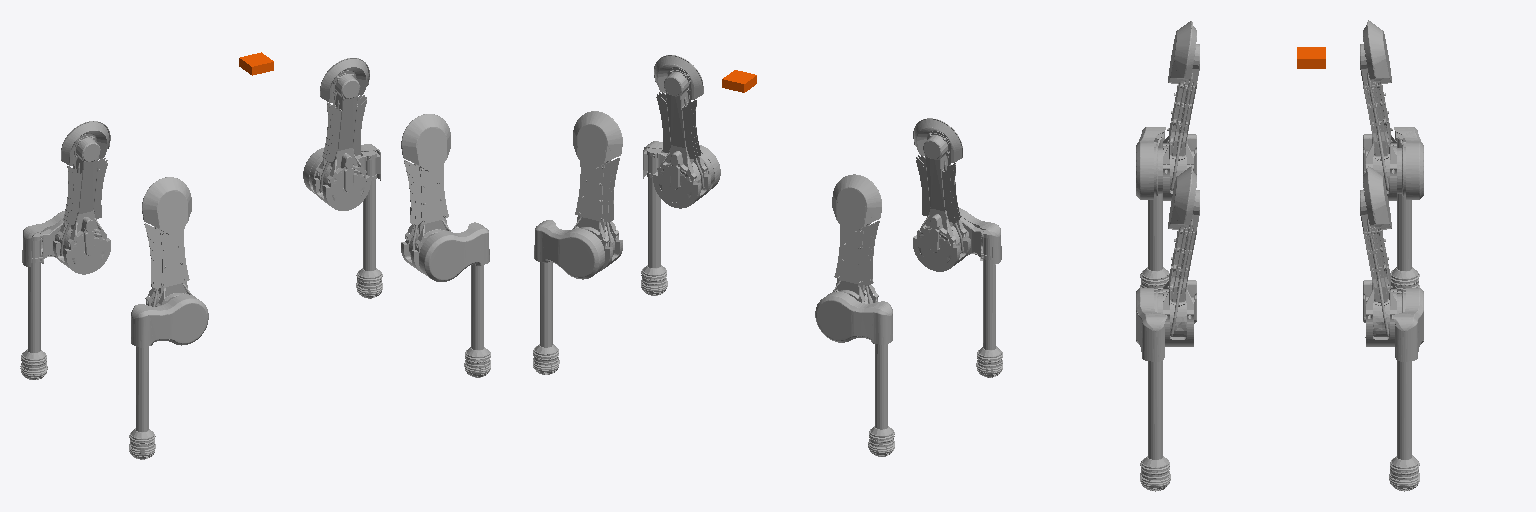
--- Render facts (derived) ---
3 views of the same robot in one strip: view 1: azimuth 30°, elevation 25°; view 2: azimuth 150°, elevation 25°; view 3: azimuth 270°, elevation 25° (orthographic).
Model anymal with 24 links and 23 joints (12 revolute, 10 fixed, 1 floating), rooted at world, posed all joints at 0.
Visible links, largest first — view 1: LH_THIGH, LF_THIGH, RF_THIGH, RH_THIGH, RH_SHANK, RF_SHANK, LH_ADAPTER, LF_ADAPTER, RH_ADAPTER, RF_ADAPTER, LH_SHANK, LF_SHANK (+1 smaller); view 2: RH_THIGH, RF_THIGH, LF_THIGH, LH_THIGH, LH_SHANK, LF_SHANK, RH_ADAPTER, RF_ADAPTER, LF_ADAPTER, LH_ADAPTER, RH_SHANK, RF_SHANK (+1 smaller); view 3: LF_THIGH, RF_THIGH, RH_THIGH, LH_THIGH, LF_ADAPTER, RF_ADAPTER, LF_SHANK, RF_SHANK, RH_ADAPTER, LH_ADAPTER, LH_SHANK, RH_SHANK (+1 smaller).
Link boxes in pixels (<box>): LH_THIGH: <box>53,121,110,274</box>; LF_THIGH: <box>312,58,370,210</box>; RF_THIGH: <box>401,114,450,273</box>; RH_THIGH: <box>142,177,191,306</box>; RH_SHANK: <box>131,294,208,347</box>; RF_SHANK: <box>419,222,489,281</box>; LH_ADAPTER: <box>20,233,47,379</box>; LF_ADAPTER: <box>356,151,382,298</box>; RH_ADAPTER: <box>129,347,155,459</box>; RF_ADAPTER: <box>464,264,490,377</box>; LH_SHANK: <box>22,211,64,266</box>; LF_SHANK: <box>303,144,380,193</box>; RH_THIGH: <box>913,118,970,271</box>; RF_THIGH: <box>653,55,710,208</box>; LF_THIGH: <box>573,111,622,271</box>; LH_THIGH: <box>832,174,881,303</box>; LH_SHANK: <box>815,292,892,344</box>; LF_SHANK: <box>534,220,604,279</box>; RH_ADAPTER: <box>976,230,1002,377</box>; RF_ADAPTER: <box>641,148,667,295</box>; LF_ADAPTER: <box>533,262,559,374</box>; LH_ADAPTER: <box>868,344,894,456</box>; RH_SHANK: <box>959,208,1001,264</box>; RF_SHANK: <box>643,141,720,191</box>; LF_THIGH: <box>1360,166,1401,346</box>; RF_THIGH: <box>1158,166,1199,346</box>; RH_THIGH: <box>1158,21,1199,200</box>; LH_THIGH: <box>1360,20,1401,200</box>; LF_ADAPTER: <box>1389,361,1419,491</box>; RF_ADAPTER: <box>1140,361,1170,491</box>; LF_SHANK: <box>1394,288,1423,361</box>; RF_SHANK: <box>1136,288,1165,361</box>; RH_ADAPTER: <box>1140,133,1169,293</box>; LH_ADAPTER: <box>1390,133,1419,293</box>; LH_SHANK: <box>1394,127,1423,199</box>; RH_SHANK: <box>1136,127,1165,199</box>.
Bounding box of the posed robot: 0.9429 × 0.568 × 0.763 m (x, y, z).
12 mesh visuals loaded from 7 distinct referenced files (4 Collada DAE); not drawn: 1 (reference not matched to a file when rendering), 4 (file found but could not be loaded).

The robot description file, URDF, robot "anymal":
<?xml version="1.0" ?>
<!-- =================================================================================== -->
<!-- |    This URDF was edited to fix inertias.                                        | -->
<!-- =================================================================================== -->
<!-- This file contains the description of the ANYmal B robot. -->
<robot name="anymal" 
  xmlns:xacro="http://www.ros.org/wiki/xacro">
  <material name="black">
    <color rgba="0.0 0.0 0.0 1.0"/>
  </material>
  <material name="blue">
    <color rgba="0.0 0.0 0.8 1.0"/>
  </material>
  <material name="green">
    <color rgba="0.0 0.8 0.0 1.0"/>
  </material>
  <material name="grey">
    <color rgba="0.2 0.2 0.2 1.0"/>
  </material>
  <material name="light_grey">
    <color rgba="0.4 0.4 0.4 1.0"/>
  </material>
  <material name="orange">
    <color rgba="1.0 0.423529411765 0.0392156862745 1.0"/>
  </material>
  <material name="brown">
    <color rgba="0.870588235294 0.811764705882 0.764705882353 1.0"/>
  </material>
  <material name="red">
    <color rgba="0.8 0.0 0.0 1.0"/>
  </material>
  <material name="white">
    <color rgba="1.0 1.0 1.0 1.0"/>
  </material>
  <!-- Material for the visual primitives -->
  <material name="anymal_material">
    <color rgba="0.7 0.7 0.7 1."/>
  </material>
  <!-- Xacro:Properties -->
  <!-- [m] -->

  <!-- World -->  
  <link name="world"/>

  <!-- Floating base -->  
  <joint name="floating" type="floating">
    <origin rpy="0 0 0" xyz="0 0 0"/>      
    <parent link="world"/>
    <child link="base"/>
  </joint>
  <!-- Base link -->
  <link name="base">
    <visual>
      <origin rpy="0 0 0" xyz="0 0 0"/>
      <geometry>
        <mesh filename="package://anymal_b_simple_description/meshes/base/anymal_base.dae" scale="1 1 1"/>
      </geometry>
      <material name="anymal_material"/>
    </visual>
    <collision>
      <!-- Main Body -->
      <origin rpy="0 0 0" xyz="0 0 0.08"/>
      <geometry>
        <box size="0.531 0.27 0.24"/>
      </geometry>
    </collision>
    <collision>
      <!-- HAA actuators -->
      <origin rpy="0 1.57079632679 0" xyz="0.227 0.116 0"/>
      <geometry>
        <cylinder length="0.1" radius="0.05"/>
      </geometry>
    </collision>
    <collision>
      <origin rpy="0 1.57079632679 0" xyz="0.227 -0.116 0"/>
      <geometry>
        <cylinder length="0.1" radius="0.05"/>
      </geometry>
    </collision>
    <collision>
      <origin rpy="0 1.57079632679 0" xyz="-0.227 0.116 0"/>
      <geometry>
        <cylinder length="0.1" radius="0.05"/>
      </geometry>
    </collision>
    <collision>
      <origin rpy="0 1.57079632679 0" xyz="-0.227 -0.116 0"/>
      <geometry>
        <cylinder length="0.1" radius="0.05"/>
      </geometry>
    </collision>
    <collision>
      <!-- Belly plate front bump -->
      <origin rpy="0 0 0" xyz="0.2155 0.0 -0.09"/>
      <geometry>
        <box size="0.1 0.1 0.07"/>
      </geometry>
    </collision>
    <collision>
      <!-- Belly plate hind bump-->
      <origin rpy="0 0 0" xyz="-0.2155 0.0 -0.09"/>
      <geometry>
        <box size="0.1 0.1 0.07"/>
      </geometry>
    </collision>
    <collision>
      <!-- Belly plate middle bump-->
      <origin rpy="0 0 0" xyz="0 0 -0.09"/>
      <geometry>
        <box size="0.531 0.02 0.07"/>
      </geometry>
    </collision>
    <inertial>
      <mass value="1e-6"/>
      <inertia ixx="1e-6" ixy="1e-6" ixz="1e-6" iyy="1e-6" iyz="1e-6" izz="1e-6"/>
    </inertial>
  </link>
  <!-- Fixed joint to add dummy inertia link -->
  <joint name="base_to_base_inertia" type="fixed">
    <parent link="base"/>
    <child link="base_inertia"/>
    <origin rpy="0 0 0" xyz="0 0 0"/>
  </joint>
  <!-- Dummy inertia link, because KDL cannot have inertia on the base link -->
  <link name="base_inertia">
    <inertial>
      <origin rpy="0 0 0" xyz="-0.001960558279 -0.001413217745 0.050207125344"/>
      <mass value="16.793507758"/>
      <inertia ixx="0.217391101503" ixy="-0.00132873239126" ixz="-0.00228200226173" iyy="0.639432546734" iyz="-0.00138078263145" izz="0.62414077654"/>
    </inertial>
  </link>
  <!-- Xacro:Properties -->
  <!-- [kg * m^2] -->
  <!-- [A] -->
  <link name="LF_HIP">
    <visual>
      <origin rpy="0 0 0.0" xyz="0 0 0"/>
      <geometry>
        <mesh filename="package://anymal_b_simple_description/meshes/hip/anymal_hip_l.dae" scale="1 1 1"/>
      </geometry>
      <material name="anymal_material"/>
    </visual>
    <collision>
      <!-- Protector -->
      <origin rpy="1.57079632679 0 0" xyz="0.0635 -0.009 0.0"/>
      <geometry>
        <cylinder length="0.1" radius="0.08"/>
      </geometry>
    </collision>
    <collision>
      <!-- Heatfins -->
      <origin rpy="1.57079632679 0 0" xyz="0.0635 -0.074 0.0"/>
      <geometry>
        <cylinder length="0.03" radius="0.045"/>
      </geometry>
    </collision>
    <inertial>
      <origin rpy="0 0 0" xyz="0.064516258147 -0.003787101702 -0.000152184388"/>
      <mass value="1.42462064"/>
      <inertia ixx="0.00243023349564" ixy="-1.53023971e-05" ixz="-2.1819095354e-05" iyy="0.00230257239103" iyz="2.6473021273e-05" izz="0.0019806759227"/>
    </inertial>
  </link>
  <!-- Hip joint -->
  <joint name="LF_HAA" type="revolute">
    <parent link="base"/>
    <child link="LF_HIP"/>
    <origin xyz="0.277 0.116 0.0"/>
    <axis xyz="1 0 0"/>
    <limit command_effort="40" current="10" effort="80" gear_velocity="10" lower="-9.42" upper="9.42" velocity="15"/>
    <dynamics damping="0.0" friction="0.0"/>
  </joint>
  <!-- Xacro:Properties -->
  <!-- [m] -->
  <!-- [A] -->
  <link name="LF_THIGH">
    <visual>
      <origin rpy="0 0 0" xyz="0 0 0"/>
      <geometry>
        <mesh filename="package://anymal_b_simple_description/meshes/thigh/anymal_thigh.dae" scale="1 1 1"/>
      </geometry>
      <material name="anymal_material"/>
    </visual>
    <collision>
      <!-- thigh with heat fins -->
      <origin rpy="0.145 0 0" xyz="0 0.035 -0.125"/>
      <geometry>
        <box size="0.08 0.04 0.25"/>
      </geometry>
    </collision>
    <collision>
      <!-- KFE actuator -->
      <origin rpy="1.57079632679 0 0" xyz="0.0 0.069 -0.25"/>
      <geometry>
        <cylinder length="0.12" radius="0.06"/>
      </geometry>
    </collision>
    <collision>
      <!-- upper protector -->
      <origin rpy="1.71579632679 0 0" xyz="0 -0.005 0"/>
      <geometry>
        <cylinder length="0.12" radius="0.066"/>
      </geometry>
    </collision>
    <inertial>
      <origin rpy="0 0 0" xyz="-0.003897968082 0.054226618537 -0.214583373795"/>
      <mass value="1.634976467"/>
      <inertia ixx="0.0120367944369" ixy="6.762065206e-05" ixz="0.000287806340448" iyy="0.0120643637939" iyz="-0.00140610131218" izz="0.00249422574881"/>
    </inertial>
  </link>
  <!-- Thigh joint -->
  <joint name="LF_HFE" type="revolute">
    <parent link="LF_HIP"/>
    <child link="LF_THIGH"/>
    <origin xyz="0.0635                    0.041                    0.0"/>
    <axis xyz="0 1 0"/>
    <limit command_effort="40" current="10" effort="80" gear_velocity="10" lower="-9.42" upper="9.42" velocity="15.0"/>
    <dynamics damping="0.0" friction="0.0"/>
  </joint>
  <!-- Xacro:Properties -->
  <!-- [m] -->
  <!-- [A] -->
  <link name="LF_SHANK">
    <visual>
      <origin rpy="0 0 0.0" xyz="0 0 0"/>
      <geometry>
        <mesh filename="package://anymal_b_simple_description/meshes/shank/anymal_shank_l.dae" scale="1 1 1"/>
      </geometry>
      <material name="anymal_material"/>
    </visual>
    <collision>
      <origin rpy="0 1.57079632679 0" xyz="0.065 -0.015 0.01"/>
      <geometry>
        <box size="0.08 0.07 0.13"/>
      </geometry>
    </collision>
    <inertial>
      <origin rpy="0 0 0" xyz="0.030816858139 -0.004617229294 0.000893125713"/>
      <mass value="0.207204302"/>
      <inertia ixx="0.0002104880248" ixy="-5.6750980345e-05" ixz="1.0127699391e-05" iyy="0.000676270210023" iyz="-8.22869024e-07" izz="0.000545032674924"/>
    </inertial>
  </link>
  <!-- Shank joint -->
  <joint name="LF_KFE" type="revolute">
    <parent link="LF_THIGH"/>
    <child link="LF_SHANK"/>
    <origin xyz="0.0 0.109 -0.25"/>
    <axis xyz="0 1 0"/>
    <limit command_effort="40" current="10" effort="80" gear_velocity="10" lower="-9.42" upper="9.42" velocity="15.0"/>
    <dynamics damping="0.0" friction="0.0"/>
  </joint>
  <!-- Xacro:Properties -->
  <!-- [m] -->
  <!-- Shank to Adapter joint -->
  <joint name="LF_SHANK_TO_ADAPTER" type="fixed">
    <parent link="LF_SHANK"/>
    <child link="LF_ADAPTER"/>
    <origin rpy="0.0 0.0 0.0" xyz="0.1 -0.02 0.0"/>
  </joint>
  <!-- Adapter link -->
  <link name="LF_ADAPTER">
    <visual>
      <origin rpy="0 0 0" xyz="0 0 0.032"/>
      <geometry>
        <mesh filename="package://anymal_b_simple_description/meshes/foot/anymal_foot.dae" scale="1 1 1"/>
      </geometry>
      <material name="anymal_material"/>
    </visual>
    <collision>
      <origin rpy="0 0 0" xyz="0 0 -0.160625"/>
      <geometry>
        <cylinder length="0.32125" radius="0.015"/>
      </geometry>
      <material name="anymal_material"/>
    </collision>
    <inertial>
      <origin rpy="0 0 0" xyz="-8.66e-10 -1.472e-09 -0.244345749188"/>
      <mass value="0.140170767"/>
      <inertia ixx="0.00159938741862" ixy="-9.32e-13" ixz="1.039e-11" iyy="0.00159938741932" iyz="1.7563e-11" izz="5.4423177329e-05"/>
    </inertial>
  </link>
  <!-- Adapter to Foot joint -->
  <joint name="LF_ADAPTER_TO_FOOT" type="fixed">
    <parent link="LF_ADAPTER"/>
    <child link="LF_FOOT"/>
    <origin rpy="0.0 0.0 0.0" xyz="0.0 0.0 -0.32125"/>
  </joint>
  <!-- Foot link -->
  <link name="LF_FOOT">
    <collision>
      <origin xyz="0 0 0.02325"/>
      <geometry>
        <sphere radius="0.031"/>
      </geometry>
    </collision>
    <inertial>
      <mass value="0.001"/>
      <inertia ixx="4.90e-07" ixy="0.0" ixz="0.0" iyy="4.90e-07" iyz="0.0" izz="4.90e-07"/>
      <!-- for a sphere: 2/5 m * r**2 -->
    </inertial>
    <!-- Bullet specific parameters -->
    <contact>
      <lateral_friction value="1.0"/>
      <stiffness value="300000"/>
      <damping value="15000"/>
      <!--<restitution value="0.5"/>-->
    </contact>
  </link>
  <!-- Gazebo customization -->
  <gazebo reference="LF_FOOT">
    <kp>1000000.0</kp>
    <kd>100.0</kd>
    <mu1>0.8</mu1>
    <mu2>0.8</mu2>
  </gazebo>
  <!-- Xacro:Properties -->
  <!-- [kg * m^2] -->
  <!-- [A] -->
  <link name="RF_HIP">
    <visual>
      <origin rpy="0 0 0" xyz="0 0 0"/>
      <geometry>
        <mesh filename="package://anymal_b_simple_description/meshes/hip/anymal_hip_r.dae" scale="1 1 1"/>
      </geometry>
      <material name="anymal_material"/>
    </visual>
    <collision>
      <!-- Protector -->
      <origin rpy="1.57079632679 0 0" xyz="0.0635 0.009 0.0"/>
      <geometry>
        <cylinder length="0.1" radius="0.08"/>
      </geometry>
    </collision>
    <collision>
      <!-- Heatfins -->
      <origin rpy="1.57079632679 0 0" xyz="0.0635 0.074 0.0"/>
      <geometry>
        <cylinder length="0.03" radius="0.045"/>
      </geometry>
    </collision>
    <inertial>
      <origin rpy="0 0 0" xyz="0.064516258147 0.003787101702 -0.000152184388"/>
      <mass value="1.42462064"/>
      <inertia ixx="0.00243023349564" ixy="1.53023971e-05" ixz="-2.1819095354e-05" iyy="0.00230257239103" iyz="-2.6473021273e-05" izz="0.0019806759227"/>
    </inertial>
  </link>
  <!-- Hip joint -->
  <joint name="RF_HAA" type="revolute">
    <parent link="base"/>
    <child link="RF_HIP"/>
    <origin xyz="0.277 -0.116 0.0"/>
    <axis xyz="1 0 0"/>
    <limit command_effort="40" current="10" effort="80" gear_velocity="10" lower="-9.42" upper="9.42" velocity="15"/>
    <dynamics damping="0.0" friction="0.0"/>
  </joint>
  <!-- Xacro:Properties -->
  <!-- [m] -->
  <!-- [A] -->
  <link name="RF_THIGH">
    <visual>
      <origin rpy="3.1416 3.1416 0.0" xyz="0 0 0"/>
      <geometry>
        <mesh filename="package://anymal_b_simple_description/meshes/thigh/anymal_thigh.dae" scale="1 1 1"/>
      </geometry>
      <material name="anymal_material"/>
    </visual>
    <collision>
      <!-- thigh with heat fins -->
      <origin rpy="-0.145 0 0" xyz="0 -0.035 -0.125"/>
      <geometry>
        <box size="0.08 0.04 0.25"/>
      </geometry>
    </collision>
    <collision>
      <!-- KFE actuator -->
      <origin rpy="1.57079632679 0 0" xyz="0.0 -0.069 -0.25"/>
      <geometry>
        <cylinder length="0.12" radius="0.06"/>
      </geometry>
    </collision>
    <collision>
      <!-- upper protector -->
      <origin rpy="-1.71579632679 0 0" xyz="0 0.005 0"/>
      <geometry>
        <cylinder length="0.12" radius="0.066"/>
      </geometry>
    </collision>
    <inertial>
      <origin rpy="0 0 0" xyz="-0.003897968082 -0.054226618537 -0.214583373795"/>
      <mass value="1.634976467"/>
      <inertia ixx="0.0120367944369" ixy="-6.762065206e-05" ixz="0.000287806340448" iyy="0.0120643637939" iyz="0.00140610131218" izz="0.00249422574881"/>
    </inertial>
  </link>
  <!-- Thigh joint -->
  <joint name="RF_HFE" type="revolute">
    <parent link="RF_HIP"/>
    <child link="RF_THIGH"/>
    <origin xyz="0.0635                    -0.041                    0.0"/>
    <axis xyz="0 1 0"/>
    <limit command_effort="40" current="10" effort="80" gear_velocity="10" lower="-9.42" upper="9.42" velocity="15.0"/>
    <dynamics damping="0.0" friction="0.0"/>
  </joint>
  <!-- Xacro:Properties -->
  <!-- [m] -->
  <!-- [A] -->
  <link name="RF_SHANK">
    <visual>
      <origin rpy="0 0 0.0" xyz="0 0 0"/>
      <geometry>
        <mesh filename="package://anymal_b_simple_description/meshes/shank/anymal_shank_r.dae" scale="1 1 1"/>
      </geometry>
      <material name="anymal_material"/>
    </visual>
    <collision>
      <origin rpy="0 1.57079632679 0" xyz="0.065 0.015 0.01"/>
      <geometry>
        <box size="0.08 0.07 0.13"/>
      </geometry>
    </collision>
    <inertial>
      <origin rpy="0 0 0" xyz="0.030816858139 0.004617229294 0.000893125713"/>
      <mass value="0.207204302"/>
      <inertia ixx="0.0002104880248" ixy="5.6750980345e-05" ixz="1.0127699391e-05" iyy="0.000676270210023" iyz="8.22869024e-07" izz="0.000545032674924"/>
    </inertial>
  </link>
  <!-- Shank joint -->
  <joint name="RF_KFE" type="revolute">
    <parent link="RF_THIGH"/>
    <child link="RF_SHANK"/>
    <origin xyz="0.0 -0.109 -0.25"/>
    <axis xyz="0 1 0"/>
    <limit command_effort="40" current="10" effort="80" gear_velocity="10" lower="-9.42" upper="9.42" velocity="15.0"/>
    <dynamics damping="0.0" friction="0.0"/>
  </joint>
  <!-- Xacro:Properties -->
  <!-- [m] -->
  <!-- Shank to Adapter joint -->
  <joint name="RF_SHANK_TO_ADAPTER" type="fixed">
    <parent link="RF_SHANK"/>
    <child link="RF_ADAPTER"/>
    <origin rpy="-0.0 0.0 -0.0" xyz="0.1 0.02 0.0"/>
  </joint>
  <!-- Adapter link -->
  <link name="RF_ADAPTER">
    <visual>
      <origin rpy="0 0 0" xyz="0 0 0.032"/>
      <geometry>
        <mesh filename="package://anymal_b_simple_description/meshes/foot/anymal_foot.dae" scale="1 1 1"/>
      </geometry>
      <material name="anymal_material"/>
    </visual>
    <collision>
      <origin rpy="0 0 0" xyz="0 0 -0.160625"/>
      <geometry>
        <cylinder length="0.32125" radius="0.015"/>
      </geometry>
      <material name="anymal_material"/>
    </collision>
    <inertial>
      <origin rpy="0 0 0" xyz="-8.66e-10 -1.472e-09 -0.244345749188"/>
      <mass value="0.140170767"/>
      <inertia ixx="0.00159938741862" ixy="-9.32e-13" ixz="1.039e-11" iyy="0.00159938741932" iyz="1.7563e-11" izz="5.4423177329e-05"/>
    </inertial>
  </link>
  <!-- Adapter to Foot joint -->
  <joint name="RF_ADAPTER_TO_FOOT" type="fixed">
    <parent link="RF_ADAPTER"/>
    <child link="RF_FOOT"/>
    <origin rpy="-0.0 0.0 -0.0" xyz="0.0 -0.0 -0.32125"/>
  </joint>
  <!-- Foot link -->
  <link name="RF_FOOT">
    <collision>
      <origin xyz="0 0 0.02325"/>
      <geometry>
        <sphere radius="0.031"/>
      </geometry>
    </collision>
    <inertial>
      <mass value="0.001"/>
      <inertia ixx="4.90e-07" ixy="0.0" ixz="0.0" iyy="4.90e-07" iyz="0.0" izz="4.90e-07"/>
      <!-- for a sphere: 2/5 m * r**2 -->
    </inertial>
    <!-- Bullet specific parameters -->
    <contact>
      <lateral_friction value="1.0"/>
      <stiffness value="300000"/>
      <damping value="15000"/>
      <!--<restitution value="0.5"/>-->
    </contact>
  </link>
  <!-- Gazebo customization -->
  <gazebo reference="RF_FOOT">
    <kp>1000000.0</kp>
    <kd>100.0</kd>
    <mu1>0.8</mu1>
    <mu2>0.8</mu2>
  </gazebo>
  <!-- Xacro:Properties -->
  <!-- [kg * m^2] -->
  <!-- [A] -->
  <link name="LH_HIP">
    <visual>
      <origin rpy="0 0 -3.14159265359" xyz="0 0 0"/>
      <geometry>
        <mesh filename="package://anymal_b_simple_description/meshes/hip/anymal_hip_r.dae" scale="1 1 1"/>
      </geometry>
      <material name="anymal_material"/>
    </visual>
    <collision>
      <!-- Protector -->
      <origin rpy="-1.57079632679 0 0" xyz="-0.0635 -0.009 0.0"/>
      <geometry>
        <cylinder length="0.1" radius="0.08"/>
      </geometry>
    </collision>
    <collision>
      <!-- Heatfins -->
      <origin rpy="-1.57079632679 0 0" xyz="-0.0635 -0.074 0.0"/>
      <geometry>
        <cylinder length="0.03" radius="0.045"/>
      </geometry>
    </collision>
    <inertial>
      <origin rpy="0 0 0" xyz="-0.064516258147 -0.003787101702 -0.000152184388"/>
      <mass value="1.42462064"/>
      <inertia ixx="0.00243023349564" ixy="1.53023971e-05" ixz="2.1819095354e-05" iyy="0.00230257239103" iyz="2.6473021273e-05" izz="0.0019806759227"/>
    </inertial>
  </link>
  <!-- Hip joint -->
  <joint name="LH_HAA" type="revolute">
    <parent link="base"/>
    <child link="LH_HIP"/>
    <origin xyz="-0.277 0.116 0.0"/>
    <axis xyz="1 0 0"/>
    <limit command_effort="40" current="10" effort="80" gear_velocity="10" lower="-9.42" upper="9.42" velocity="15"/>
    <dynamics damping="0.0" friction="0.0"/>
  </joint>
  <!-- Xacro:Properties -->
  <!-- [m] -->
  <!-- [A] -->
  <link name="LH_THIGH">
    <visual>
      <origin rpy="0 0 0" xyz="0 0 0"/>
      <geometry>
        <mesh filename="package://anymal_b_simple_description/meshes/thigh/anymal_thigh.dae" scale="1 1 1"/>
      </geometry>
      <material name="anymal_material"/>
    </visual>
    <collision>
      <!-- thigh with heat fins -->
      <origin rpy="0.145 0 0" xyz="0 0.035 -0.125"/>
      <geometry>
        <box size="0.08 0.04 0.25"/>
      </geometry>
    </collision>
    <collision>
      <!-- KFE actuator -->
      <origin rpy="1.57079632679 0 0" xyz="0.0 0.069 -0.25"/>
      <geometry>
        <cylinder length="0.12" radius="0.06"/>
      </geometry>
    </collision>
    <collision>
      <!-- upper protector -->
      <origin rpy="1.71579632679 0 0" xyz="0 -0.005 0"/>
      <geometry>
        <cylinder length="0.12" radius="0.066"/>
      </geometry>
    </collision>
    <inertial>
      <origin rpy="0 0 0" xyz="0.003897968082 0.054226618537 -0.214583373795"/>
      <mass value="1.634976467"/>
      <inertia ixx="0.0120367944369" ixy="-6.762065206e-05" ixz="-0.000287806340448" iyy="0.0120643637939" iyz="-0.00140610131218" izz="0.00249422574881"/>
    </inertial>
  </link>
  <!-- Thigh joint -->
  <joint name="LH_HFE" type="revolute">
    <parent link="LH_HIP"/>
    <child link="LH_THIGH"/>
    <origin xyz="-0.0635                    0.041                    0.0"/>
    <axis xyz="0 1 0"/>
    <limit command_effort="40" current="10" effort="80" gear_velocity="10" lower="-9.42" upper="9.42" velocity="15.0"/>
    <dynamics damping="0.0" friction="0.0"/>
  </joint>
  <!-- Xacro:Properties -->
  <!-- [m] -->
  <!-- [A] -->
  <link name="LH_SHANK">
    <visual>
      <origin rpy="0 0 -3.14159265359" xyz="0 0 0"/>
      <geometry>
        <mesh filename="package://anymal_b_simple_description/meshes/shank/anymal_shank_r.dae" scale="1 1 1"/>
      </geometry>
      <material name="anymal_material"/>
    </visual>
    <collision>
      <origin rpy="0 1.57079632679 0" xyz="-0.065 -0.015 0.01"/>
      <geometry>
        <box size="0.08 0.07 0.13"/>
      </geometry>
    </collision>
    <inertial>
      <origin rpy="0 0 0" xyz="-0.030816858139 -0.004617229294 0.000893125713"/>
      <mass value="0.207204302"/>
      <inertia ixx="0.0002104880248" ixy="5.6750980345e-05" ixz="-1.0127699391e-05" iyy="0.000676270210023" iyz="-8.22869024e-07" izz="0.000545032674924"/>
    </inertial>
  </link>
  <!-- Shank joint -->
  <joint name="LH_KFE" type="revolute">
    <parent link="LH_THIGH"/>
    <child link="LH_SHANK"/>
    <origin xyz="-0.0 0.109 -0.25"/>
    <axis xyz="0 1 0"/>
    <limit command_effort="40" current="10" effort="80" gear_velocity="10" lower="-9.42" upper="9.42" velocity="15.0"/>
    <dynamics damping="0.0" friction="0.0"/>
  </joint>
  <!-- Xacro:Properties -->
  <!-- [m] -->
  <!-- Shank to Adapter joint -->
  <joint name="LH_SHANK_TO_ADAPTER" type="fixed">
    <parent link="LH_SHANK"/>
    <child link="LH_ADAPTER"/>
    <origin rpy="0.0 -0.0 -0.0" xyz="-0.1 -0.02 0.0"/>
  </joint>
  <!-- Adapter link -->
  <link name="LH_ADAPTER">
    <visual>
      <origin rpy="0 0 -3.14159265359" xyz="0 0 0.032"/>
      <geometry>
        <mesh filename="package://anymal_b_simple_description/meshes/foot/anymal_foot.dae" scale="1 1 1"/>
      </geometry>
      <material name="anymal_material"/>
    </visual>
    <collision>
      <origin rpy="0 0 0" xyz="0 0 -0.160625"/>
      <geometry>
        <cylinder length="0.32125" radius="0.015"/>
      </geometry>
      <material name="anymal_material"/>
    </collision>
    <inertial>
      <origin rpy="0 0 0" xyz="-8.66e-10 -1.472e-09 -0.244345749188"/>
      <mass value="0.140170767"/>
      <inertia ixx="0.00159938741862" ixy="-9.32e-13" ixz="1.039e-11" iyy="0.00159938741932" iyz="1.7563e-11" izz="5.4423177329e-05"/>
    </inertial>
  </link>
  <!-- Adapter to Foot joint -->
  <joint name="LH_ADAPTER_TO_FOOT" type="fixed">
    <parent link="LH_ADAPTER"/>
    <child link="LH_FOOT"/>
    <origin rpy="0.0 -0.0 -0.0" xyz="-0.0 0.0 -0.32125"/>
  </joint>
  <!-- Foot link -->
  <link name="LH_FOOT">
    <collision>
      <origin xyz="0 0 0.02325"/>
      <geometry>
        <sphere radius="0.031"/>
      </geometry>
    </collision>
    <inertial>
      <mass value="0.001"/>
      <inertia ixx="4.90e-07" ixy="0.0" ixz="0.0" iyy="4.90e-07" iyz="0.0" izz="4.90e-07"/>
      <!-- for a sphere: 2/5 m * r**2 -->
    </inertial>
    <!-- Bullet specific parameters -->
    <contact>
      <lateral_friction value="1.0"/>
      <stiffness value="300000"/>
      <damping value="15000"/>
      <!--<restitution value="0.5"/>-->
    </contact>
  </link>
  <!-- Gazebo customization -->
  <gazebo reference="LH_FOOT">
    <kp>1000000.0</kp>
    <kd>100.0</kd>
    <mu1>0.8</mu1>
    <mu2>0.8</mu2>
  </gazebo>
  <!-- Xacro:Properties -->
  <!-- [kg * m^2] -->
  <!-- [A] -->
  <link name="RH_HIP">
    <visual>
      <origin rpy="0 0 -3.14159265359" xyz="0 0 0"/>
      <geometry>
        <mesh filename="package://anymal_b_simple_description/meshes/hip/anymal_hip_l.dae" scale="1 1 1"/>
      </geometry>
      <material name="anymal_material"/>
    </visual>
    <collision>
      <!-- Protector -->
      <origin rpy="-1.57079632679 0 0" xyz="-0.0635 0.009 0.0"/>
      <geometry>
        <cylinder length="0.1" radius="0.08"/>
      </geometry>
    </collision>
    <collision>
      <!-- Heatfins -->
      <origin rpy="-1.57079632679 0 0" xyz="-0.0635 0.074 0.0"/>
      <geometry>
        <cylinder length="0.03" radius="0.045"/>
      </geometry>
    </collision>
    <inertial>
      <origin rpy="0 0 0" xyz="-0.064516258147 0.003787101702 -0.000152184388"/>
      <mass value="1.42462064"/>
      <inertia ixx="0.00243023349564" ixy="-1.53023971e-05" ixz="2.1819095354e-05" iyy="0.00230257239103" iyz="-2.6473021273e-05" izz="0.0019806759227"/>
    </inertial>
  </link>
  <!-- Hip joint -->
  <joint name="RH_HAA" type="revolute">
    <parent link="base"/>
    <child link="RH_HIP"/>
    <origin xyz="-0.277 -0.116 0.0"/>
    <axis xyz="1 0 0"/>
    <limit command_effort="40" current="10" effort="80" gear_velocity="10" lower="-9.42" upper="9.42" velocity="15"/>
    <dynamics damping="0.0" friction="0.0"/>
  </joint>
  <!-- Xacro:Properties -->
  <!-- [m] -->
  <!-- [A] -->
  <link name="RH_THIGH">
    <visual>
      <origin rpy="0 0 -3.14159265359" xyz="0 0 0"/>
      <geometry>
        <mesh filename="package://anymal_b_simple_description/meshes/thigh/anymal_thigh.dae" scale="1 1 1"/>
      </geometry>
      <material name="anymal_material"/>
    </visual>
    <collision>
      <!-- thigh with heat fins -->
      <origin rpy="-0.145 0 0" xyz="0 -0.035 -0.125"/>
      <geometry>
        <box size="0.08 0.04 0.25"/>
      </geometry>
    </collision>
    <collision>
      <!-- KFE actuator -->
      <origin rpy="1.57079632679 0 0" xyz="0.0 -0.069 -0.25"/>
      <geometry>
        <cylinder length="0.12" radius="0.06"/>
      </geometry>
    </collision>
    <collision>
      <!-- upper protector -->
      <origin rpy="-1.71579632679 0 0" xyz="0 0.005 0"/>
      <geometry>
        <cylinder length="0.12" radius="0.066"/>
      </geometry>
    </collision>
    <inertial>
      <origin rpy="0 0 0" xyz="0.003897968082 -0.054226618537 -0.214583373795"/>
      <mass value="1.634976467"/>
      <inertia ixx="0.0120367944369" ixy="6.762065206e-05" ixz="-0.000287806340448" iyy="0.0120643637939" iyz="0.00140610131218" izz="0.00249422574881"/>
    </inertial>
  </link>
  <!-- Thigh joint -->
  <joint name="RH_HFE" type="revolute">
    <parent link="RH_HIP"/>
    <child link="RH_THIGH"/>
    <origin xyz="-0.0635                    -0.041                    0.0"/>
    <axis xyz="0 1 0"/>
    <limit command_effort="40" current="10" effort="80" gear_velocity="10" lower="-9.42" upper="9.42" velocity="15.0"/>
    <dynamics damping="0.0" friction="0.0"/>
  </joint>
  <!-- Xacro:Properties -->
  <!-- [m] -->
  <!-- [A] -->
  <link name="RH_SHANK">
    <visual>
      <origin rpy="0 0 -3.14159265359" xyz="0 0 0"/>
      <geometry>
        <mesh filename="package://anymal_b_simple_description/meshes/shank/anymal_shank_l.dae" scale="1 1 1"/>
      </geometry>
      <material name="anymal_material"/>
    </visual>
    <collision>
      <origin rpy="0 1.57079632679 0" xyz="-0.065 0.015 0.01"/>
      <geometry>
        <box size="0.08 0.07 0.13"/>
      </geometry>
    </collision>
    <inertial>
      <origin rpy="0 0 0" xyz="-0.030816858139 0.004617229294 0.000893125713"/>
      <mass value="0.207204302"/>
      <inertia ixx="0.0002104880248" ixy="-5.6750980345e-05" ixz="-1.0127699391e-05" iyy="0.000676270210023" iyz="8.22869024e-07" izz="0.000545032674924"/>
    </inertial>
  </link>
  <!-- Shank joint -->
  <joint name="RH_KFE" type="revolute">
    <parent link="RH_THIGH"/>
    <child link="RH_SHANK"/>
    <origin xyz="-0.0 -0.109 -0.25"/>
    <axis xyz="0 1 0"/>
    <limit command_effort="40" current="10" effort="80" gear_velocity="10" lower="-9.42" upper="9.42" velocity="15.0"/>
    <dynamics damping="0.0" friction="0.0"/>
  </joint>
  <!-- Xacro:Properties -->
  <!-- [m] -->
  <!-- Shank to Adapter joint -->
  <joint name="RH_SHANK_TO_ADAPTER" type="fixed">
    <parent link="RH_SHANK"/>
    <child link="RH_ADAPTER"/>
    <origin rpy="-0.0 -0.0 0.0" xyz="-0.1 0.02 0.0"/>
  </joint>
  <!-- Adapter link -->
  <link name="RH_ADAPTER">
    <visual>
      <origin rpy="0 0 -3.14159265359" xyz="0 0 0.032"/>
      <geometry>
        <mesh filename="package://anymal_b_simple_description/meshes/foot/anymal_foot.dae" scale="1 1 1"/>
      </geometry>
      <material name="anymal_material"/>
    </visual>
    <collision>
      <origin rpy="0 0 0" xyz="0 0 -0.160625"/>
      <geometry>
        <cylinder length="0.32125" radius="0.015"/>
      </geometry>
      <material name="anymal_material"/>
    </collision>
    <inertial>
      <origin rpy="0 0 0" xyz="-8.66e-10 -1.472e-09 -0.244345749188"/>
      <mass value="0.140170767"/>
      <inertia ixx="0.00159938741862" ixy="-9.32e-13" ixz="1.039e-11" iyy="0.00159938741932" iyz="1.7563e-11" izz="5.4423177329e-05"/>
    </inertial>
  </link>
  <!-- Adapter to Foot joint -->
  <joint name="RH_ADAPTER_TO_FOOT" type="fixed">
    <parent link="RH_ADAPTER"/>
    <child link="RH_FOOT"/>
    <origin rpy="-0.0 -0.0 0.0" xyz="-0.0 -0.0 -0.32125"/>
  </joint>
  <!-- Foot link -->
  <link name="RH_FOOT">
    <collision>
      <origin xyz="0 0 0.02325"/>
      <geometry>
        <sphere radius="0.031"/>
      </geometry>
    </collision>
    <inertial>
      <mass value="0.001"/>
      <inertia ixx="4.90e-07" ixy="0.0" ixz="0.0" iyy="4.90e-07" iyz="0.0" izz="4.90e-07"/>
      <!-- for a sphere: 2/5 m * r**2 -->
    </inertial>
    <!-- Bullet specific parameters -->
    <contact>
      <lateral_friction value="1.0"/>
      <stiffness value="300000"/>
      <damping value="15000"/>
      <!--<restitution value="0.5"/>-->
    </contact>
  </link>
  <!-- Gazebo customization -->
  <gazebo reference="RH_FOOT">
    <kp>1000000.0</kp>
    <kd>100.0</kd>
    <mu1>0.8</mu1>
    <mu2>0.8</mu2>
  </gazebo>
  <link name="imu_link">
    <visual>
      <origin rpy="0 0 0" xyz="0 0 0.011"/>
      <geometry>
        <box size="0.058 0.058 0.022"/>
      </geometry>
      <material name="orange"/>
    </visual>
    <collision>
      <origin rpy="0 0 0" xyz="0 0 0.011"/>
      <geometry>
        <box size="0.058 0.058 0.022"/>
      </geometry>
    </collision>
    <inertial>
      <mass value="0.05"/>
      <origin xyz="0 0 0"/>
      <inertia ixx="1.60333333333e-05" ixy="0.0" ixz="0.0" iyy="2.80333333333e-05" iyz="0.0" izz="1.60333333333e-05"/>
    </inertial>
  </link>
  <joint name="imu_joint" type="fixed">
    <parent link="base"/>
    <child link="imu_link"/>
    <origin rpy="0 3.14159265359 0" xyz="0.038 0.06245 0.1837"/>
  </joint>
</robot>
